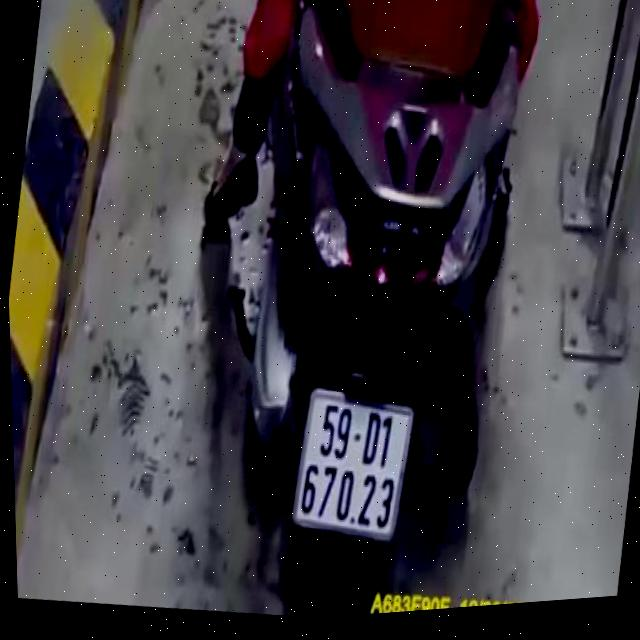motorcycle: (170, 0, 561, 627)
plate: (280, 373, 425, 556)
